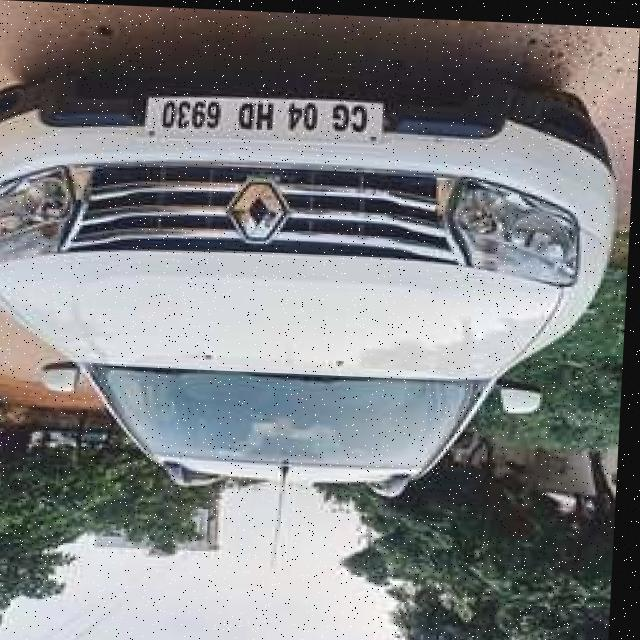plate: (146, 91, 384, 143)
